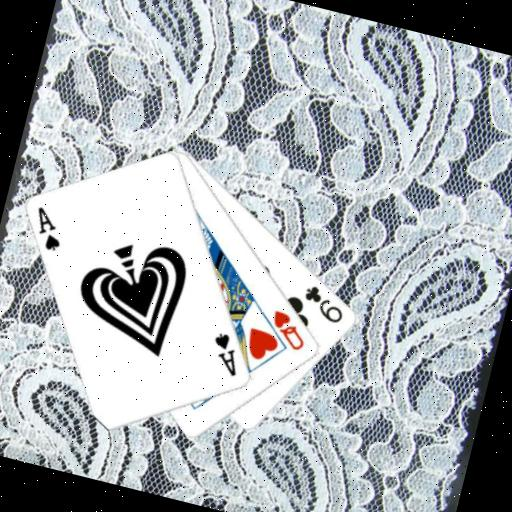9C: (296, 280, 351, 327)
AS: (26, 202, 71, 255), (204, 328, 248, 380)
QH: (264, 306, 313, 354)
